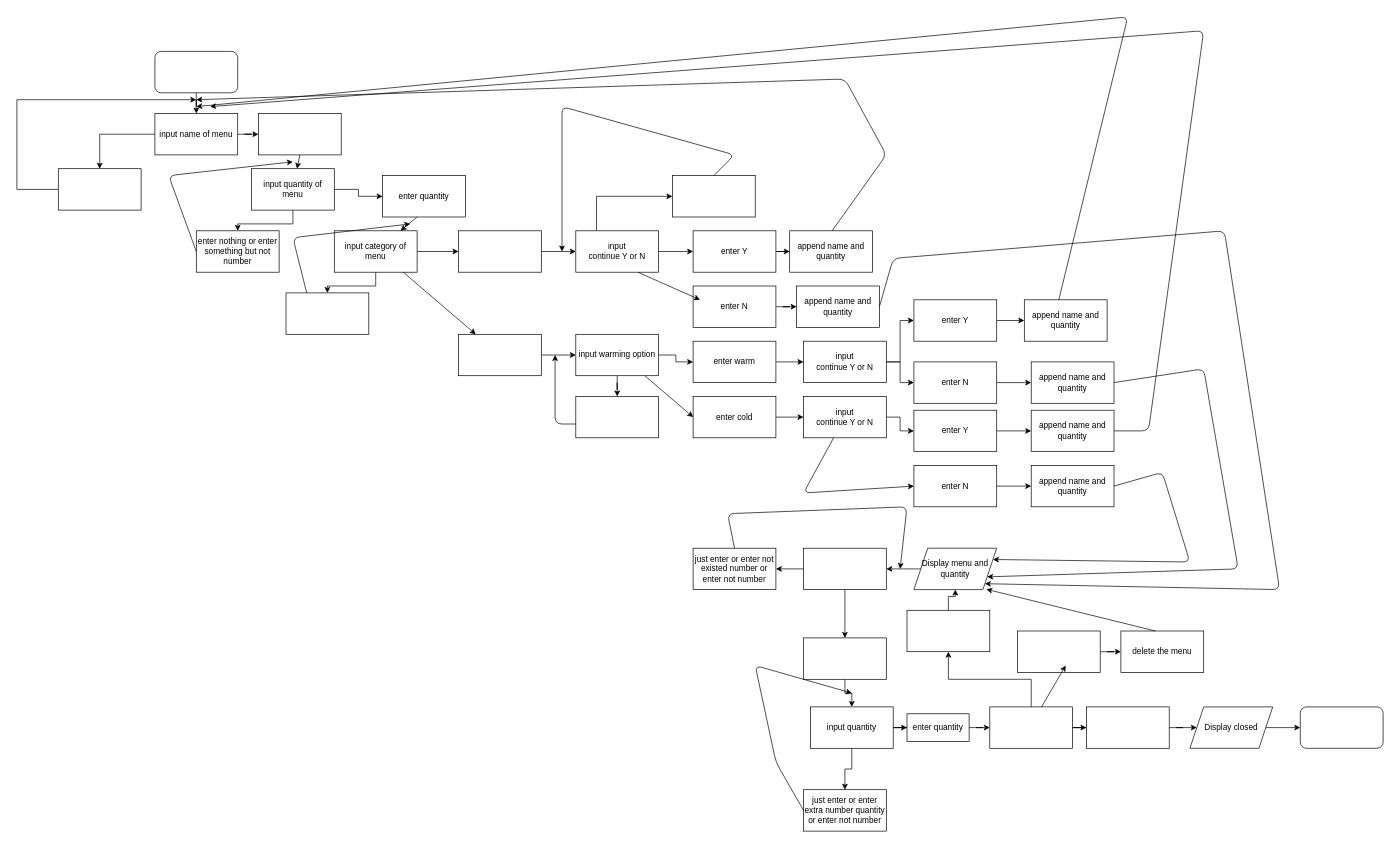
Image size: 1395x843. Some labels were removed from this diagram. The box of each missing label's shape, as (x1, y1, x2, y2) in pixels:
all quantity of menu is 0: (1086, 706, 1169, 748)
enter drink: (458, 230, 541, 272)
enter food: (458, 334, 541, 376)
enter menu number: (803, 637, 886, 679)
enter name of menu: (258, 113, 341, 155)
enter nothing: (58, 168, 141, 210)
enter nothing or not 'food' or' not 'drink': (285, 292, 369, 334)
enter nothing or not 'y' or not 'n': (672, 175, 755, 217)
enter nothing or not'warm'or not 'cold': (575, 396, 659, 438)
input menu number: (803, 548, 886, 590)
minus quantity at the selected menu quantity: (989, 706, 1073, 748)
quantity of all menu is more than one.: (906, 610, 990, 652)
quantity of selected menu is 0: (1017, 630, 1100, 672)
Start: (154, 51, 238, 93)
The end: (1300, 706, 1383, 748)
